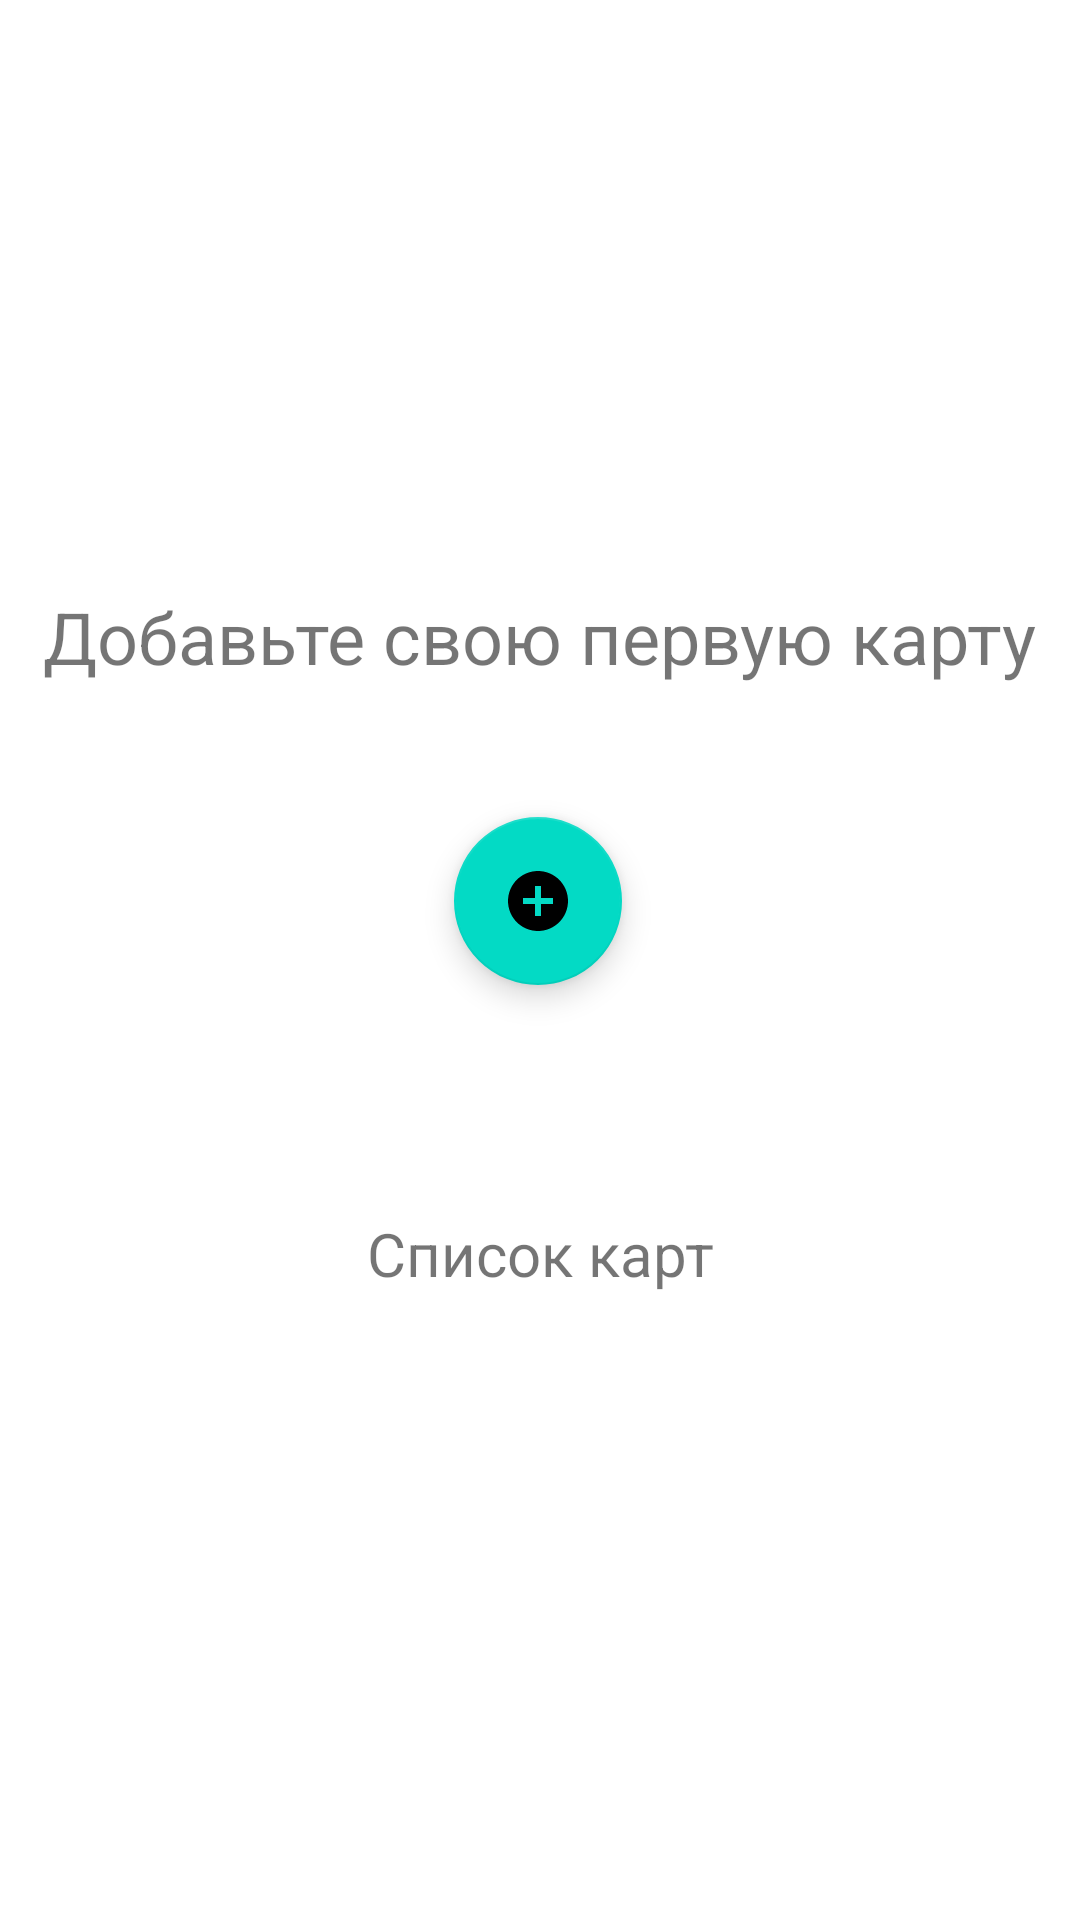

Screen size 1080px x 1920px. Icon name, then its center in pixels as point (x, y):
add circle: point (538, 901)
